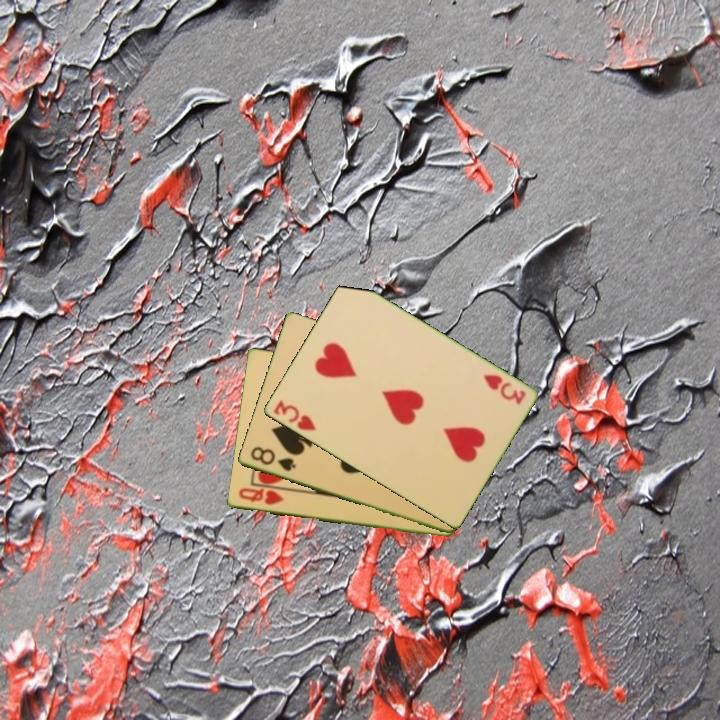3h: (270, 397, 319, 434), (479, 371, 528, 408)
8s: (247, 443, 299, 475)
Qh: (235, 485, 286, 508)
